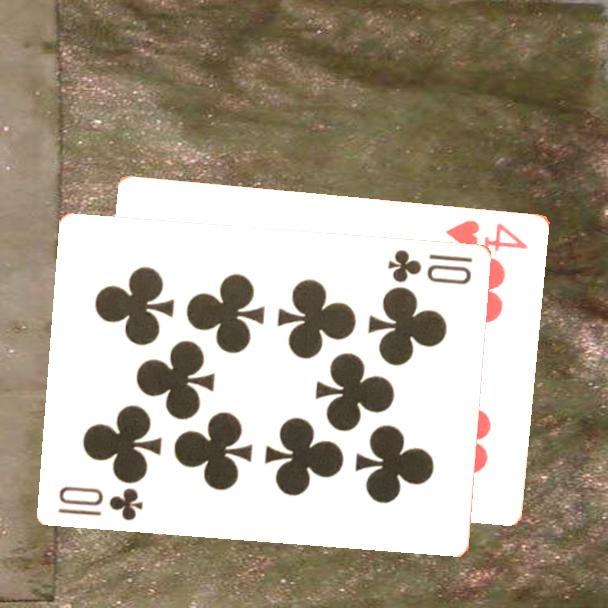c10: (384, 246, 476, 287), (55, 482, 146, 523)
h04: (443, 216, 531, 254)
